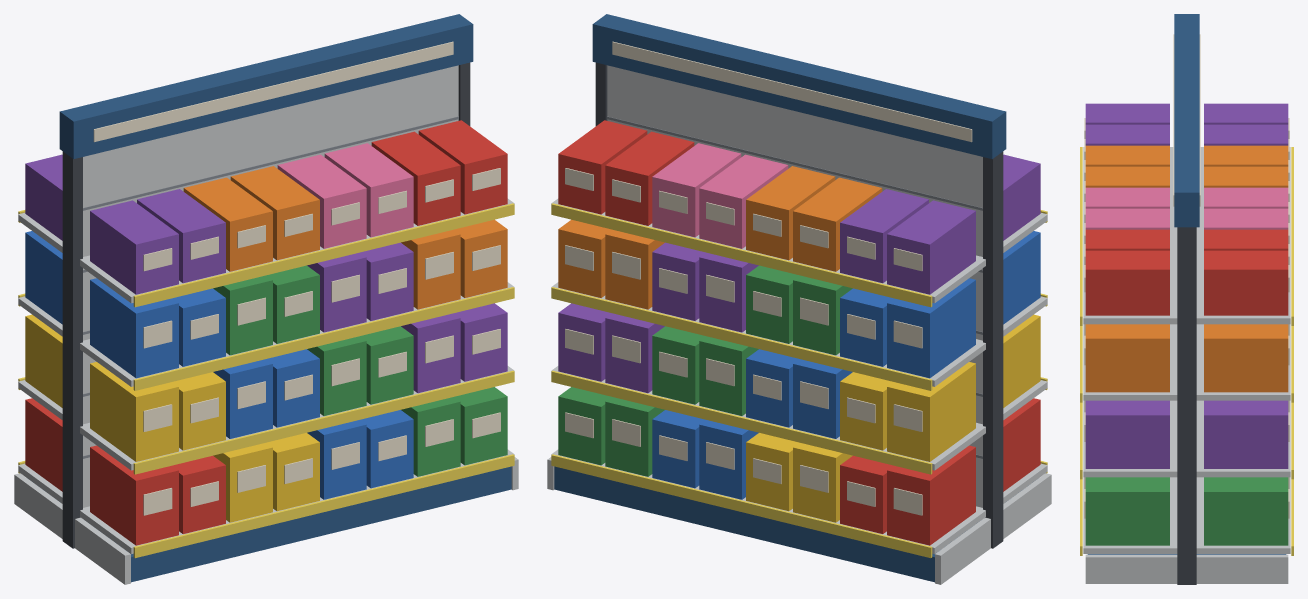
Rendered from Aisle_Shelf_Cereal_2m.fbx.
The picture shows the model from 3 angles, left to right: view 1: azimuth 30°, elevation 25°; view 2: azimuth 150°, elevation 25°; view 3: azimuth 270°, elevation 25°; orthographic projection. The views are drawn at different scales.
Visible parts, largest first — view 1: Aisle_Shelf_Cereal_2m; view 2: Aisle_Shelf_Cereal_2m; view 3: Aisle_Shelf_Cereal_2m.
Boxes of the visible parts, x1,y1,x2,y2 form: Aisle_Shelf_Cereal_2m: (14, 14, 518, 584); Aisle_Shelf_Cereal_2m: (547, 14, 1051, 584); Aisle_Shelf_Cereal_2m: (1080, 14, 1293, 584).
Bounding box in the file's own units: 2 × 2.05 × 1.01.
1 material, 1 textured.
